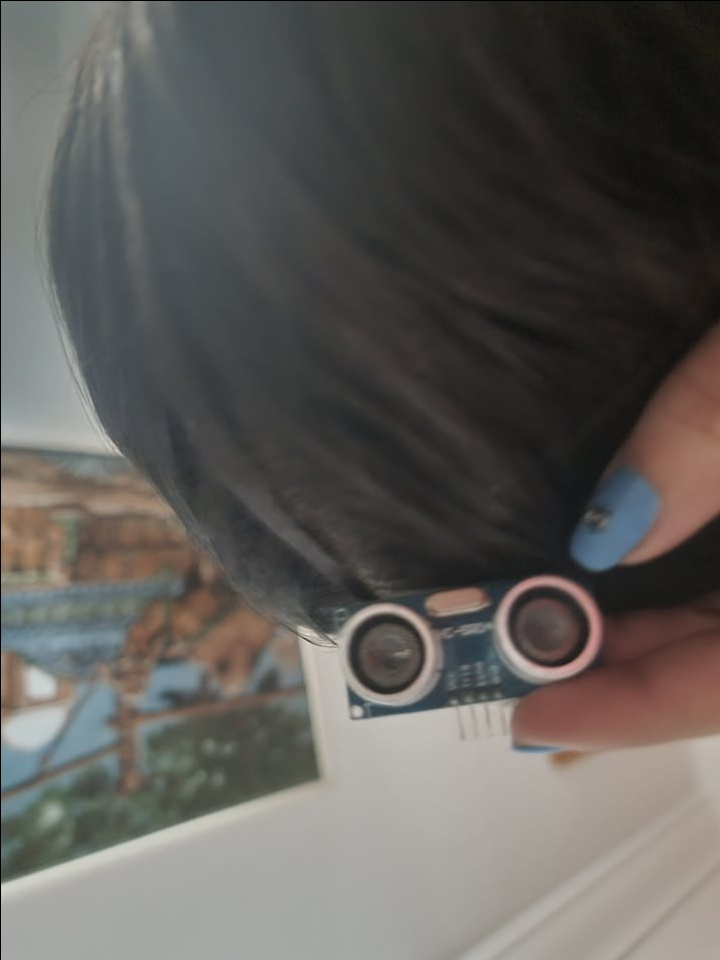SENSOR: (338, 567, 614, 716)
